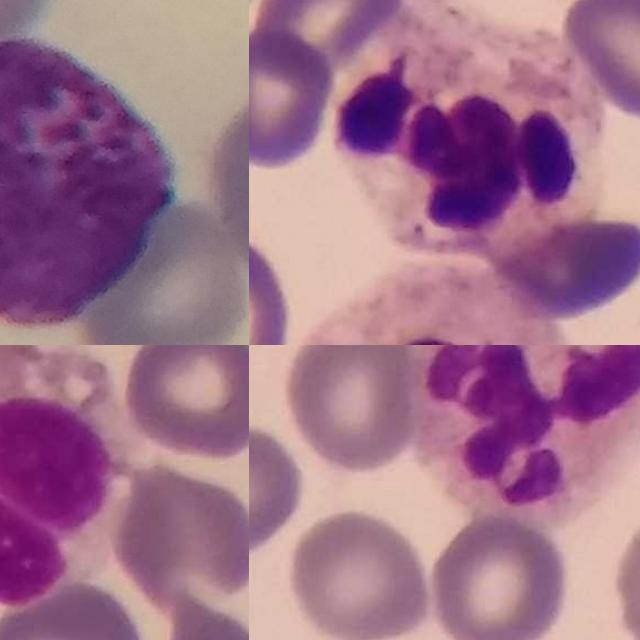Basophil: (0, 35, 176, 333)
Eosinophil: (0, 345, 128, 610)
Neutrophil: (336, 18, 603, 258), (415, 345, 640, 528), (299, 264, 568, 345)
